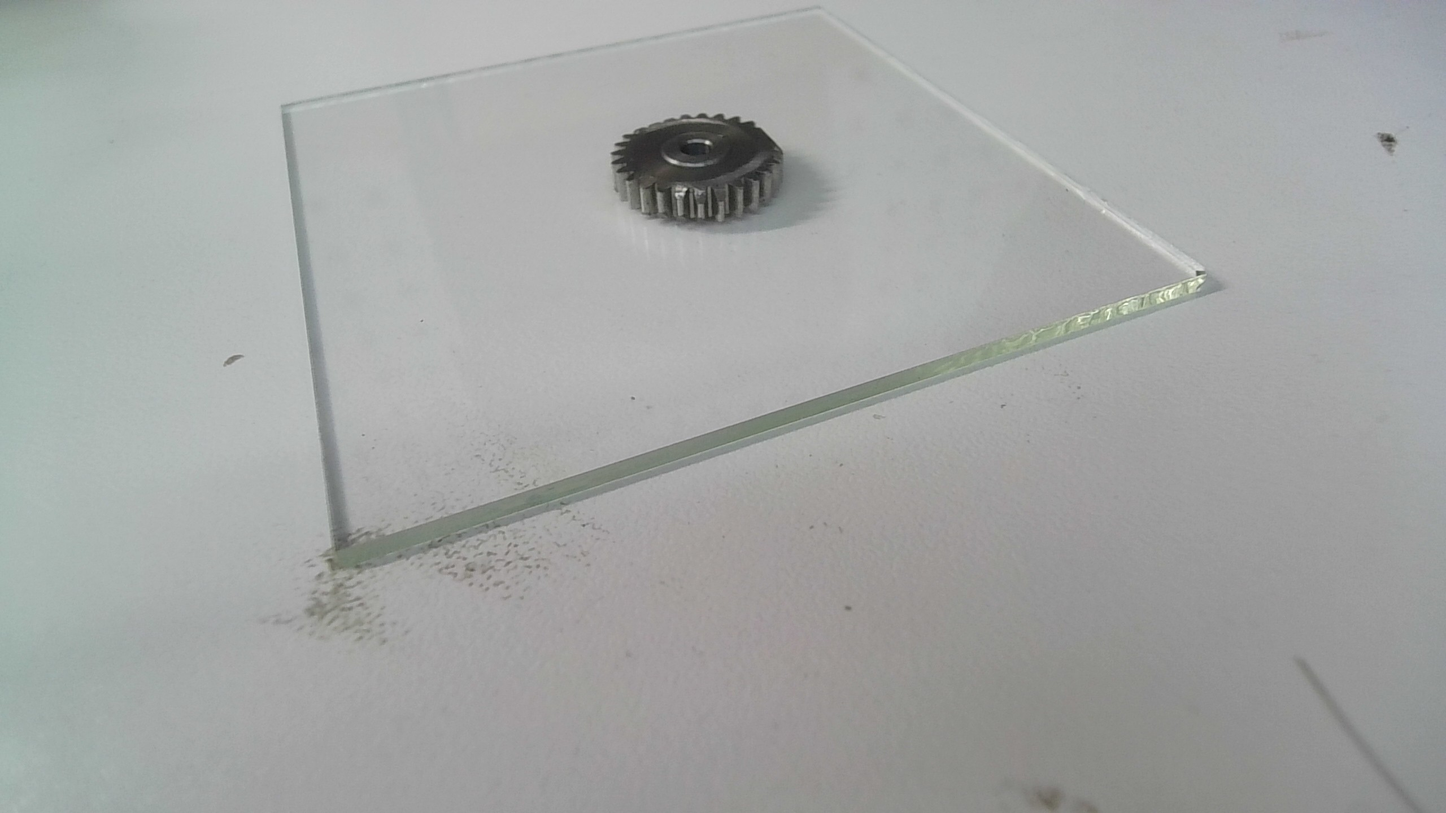gear: (606, 106, 787, 229)
